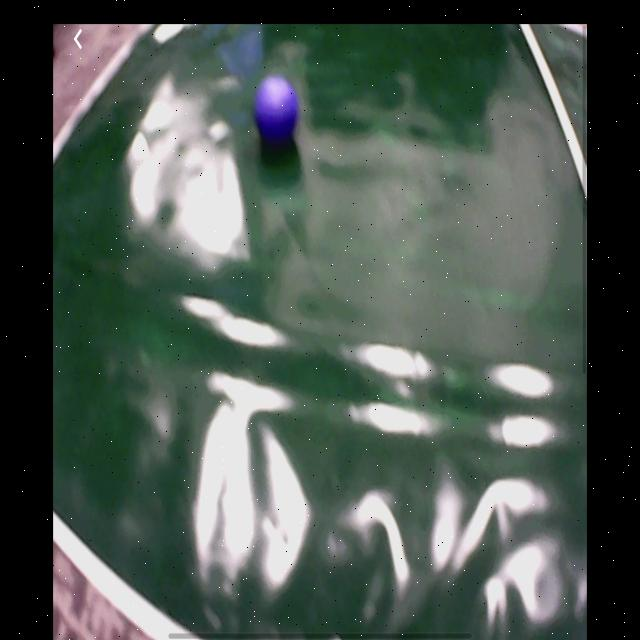ball: (256, 76, 299, 142)
